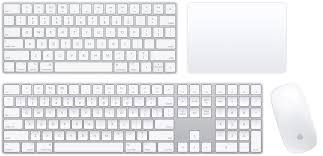keyboard: (0, 76, 265, 156), (0, 1, 182, 75)
mouse: (268, 84, 319, 156)
